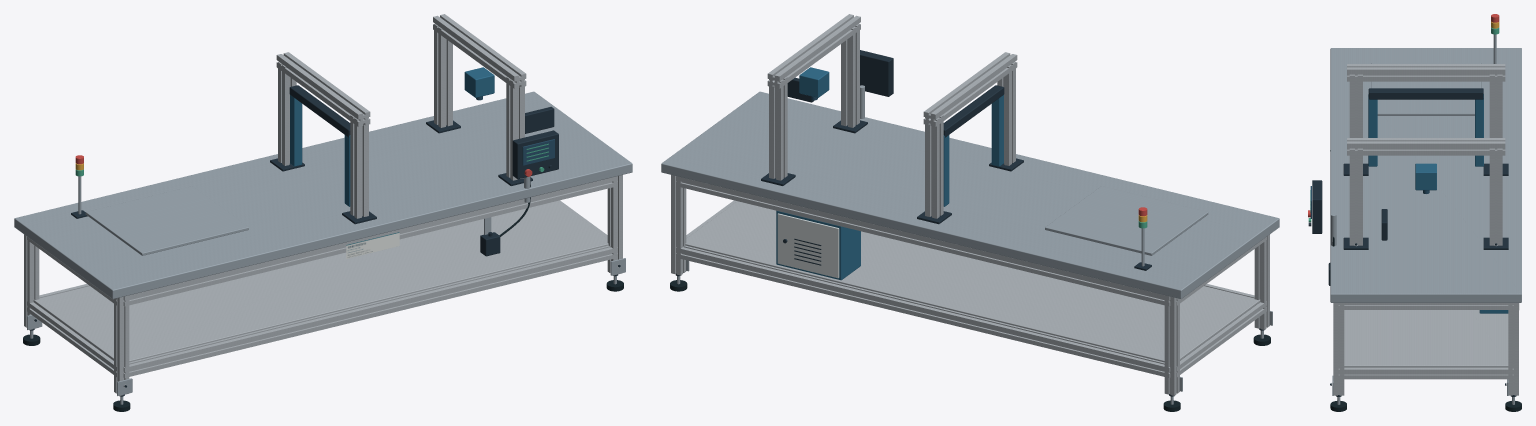
Rendered from dimension-weigh-scan-cell.glb.
3 views of the same model, side by side, from view 1: azimuth 30°, elevation 25°; view 2: azimuth 150°, elevation 25°; view 3: azimuth 270°, elevation 25° (orthographic). The views are drawn at different scales.
Parts seen in each view (by area): view 1: ClosedMachineBed_40, LowerShelf_41, SlottedExtrusion_34, WeighPlate_71, SlottedExtrusion_35, SlottedExtrusion_84, SlottedExtrusion_98, SlottedExtrusion_79, SlottedExtrusion_88, SlottedExtrusion_11, SlottedExtrusion_93, SlottedExtrusion_36 (+10 smaller); view 2: ClosedMachineBed_40, LowerShelf_41, SlottedExtrusion_32, WeighPlate_71, SlottedExtrusion_33, BackDoor_43, SlottedExtrusion_84, SlottedExtrusion_98, SlottedExtrusion_88, SlottedExtrusion_74, SlottedExtrusion_93, SlottedExtrusion_3 (+9 smaller); view 3: ClosedMachineBed_40, LowerShelf_41, SlottedExtrusion_98, SlottedExtrusion_84, WeighPlate_71, SlottedExtrusion_38, SensorBridge_87, SlottedExtrusion_88, SlottedExtrusion_93, SlottedExtrusion_39, SlottedExtrusion_27, SlottedExtrusion_19 (+10 smaller).
Part boxes in pixels (left/top/right/bottom): ClosedMachineBed_40: left=14, top=91, right=632, bottom=298; LowerShelf_41: left=33, top=201, right=608, bottom=362; SlottedExtrusion_34: left=123, top=245, right=617, bottom=377; WeighPlate_71: left=85, top=186, right=248, bottom=255; SlottedExtrusion_35: left=123, top=176, right=617, bottom=306; SlottedExtrusion_84: left=276, top=52, right=370, bottom=126; SlottedExtrusion_98: left=433, top=14, right=526, bottom=88; SlottedExtrusion_79: left=350, top=114, right=368, bottom=218; SlottedExtrusion_88: left=434, top=24, right=452, bottom=127; SlottedExtrusion_11: left=114, top=295, right=129, bottom=395; SlottedExtrusion_93: left=506, top=76, right=524, bottom=180; SlottedExtrusion_36: left=27, top=301, right=117, bottom=376; ClosedMachineBed_40: left=661, top=91, right=1279, bottom=298; LowerShelf_41: left=685, top=201, right=1260, bottom=362; SlottedExtrusion_32: left=676, top=245, right=1170, bottom=377; WeighPlate_71: left=1045, top=186, right=1208, bottom=255; SlottedExtrusion_33: left=676, top=176, right=1170, bottom=306; BackDoor_43: left=777, top=213, right=839, bottom=278; SlottedExtrusion_84: left=923, top=52, right=1017, bottom=126; SlottedExtrusion_98: left=767, top=14, right=860, bottom=88; SlottedExtrusion_88: left=769, top=76, right=787, bottom=180; SlottedExtrusion_74: left=925, top=114, right=943, bottom=218; SlottedExtrusion_93: left=841, top=24, right=859, bottom=127; SlottedExtrusion_3: left=1164, top=295, right=1179, bottom=395; ClosedMachineBed_40: left=1330, top=48, right=1521, bottom=302; LowerShelf_41: left=1344, top=310, right=1508, bottom=367; SlottedExtrusion_98: left=1347, top=138, right=1505, bottom=155; SlottedExtrusion_84: left=1347, top=64, right=1505, bottom=81; WeighPlate_71: left=1371, top=63, right=1481, bottom=115; SlottedExtrusion_38: left=1338, top=367, right=1513, bottom=379; SensorBridge_87: left=1368, top=88, right=1483, bottom=99; SlottedExtrusion_88: left=1489, top=148, right=1502, bottom=245; SlottedExtrusion_93: left=1349, top=148, right=1362, bottom=245; SlottedExtrusion_39: left=1338, top=303, right=1513, bottom=309; SlottedExtrusion_27: left=1333, top=303, right=1344, bottom=395; SlottedExtrusion_19: left=1508, top=303, right=1518, bottom=395.
Size of the model in its own units: 3.5 by 1.49 by 1.29.
Materials: 11 (3 with a texture image).
